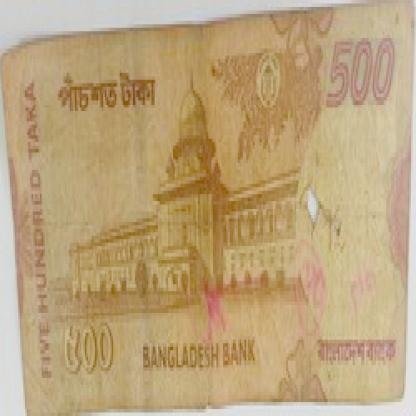500 taka: (48, 73, 173, 125)
currency: (3, 7, 416, 412)
